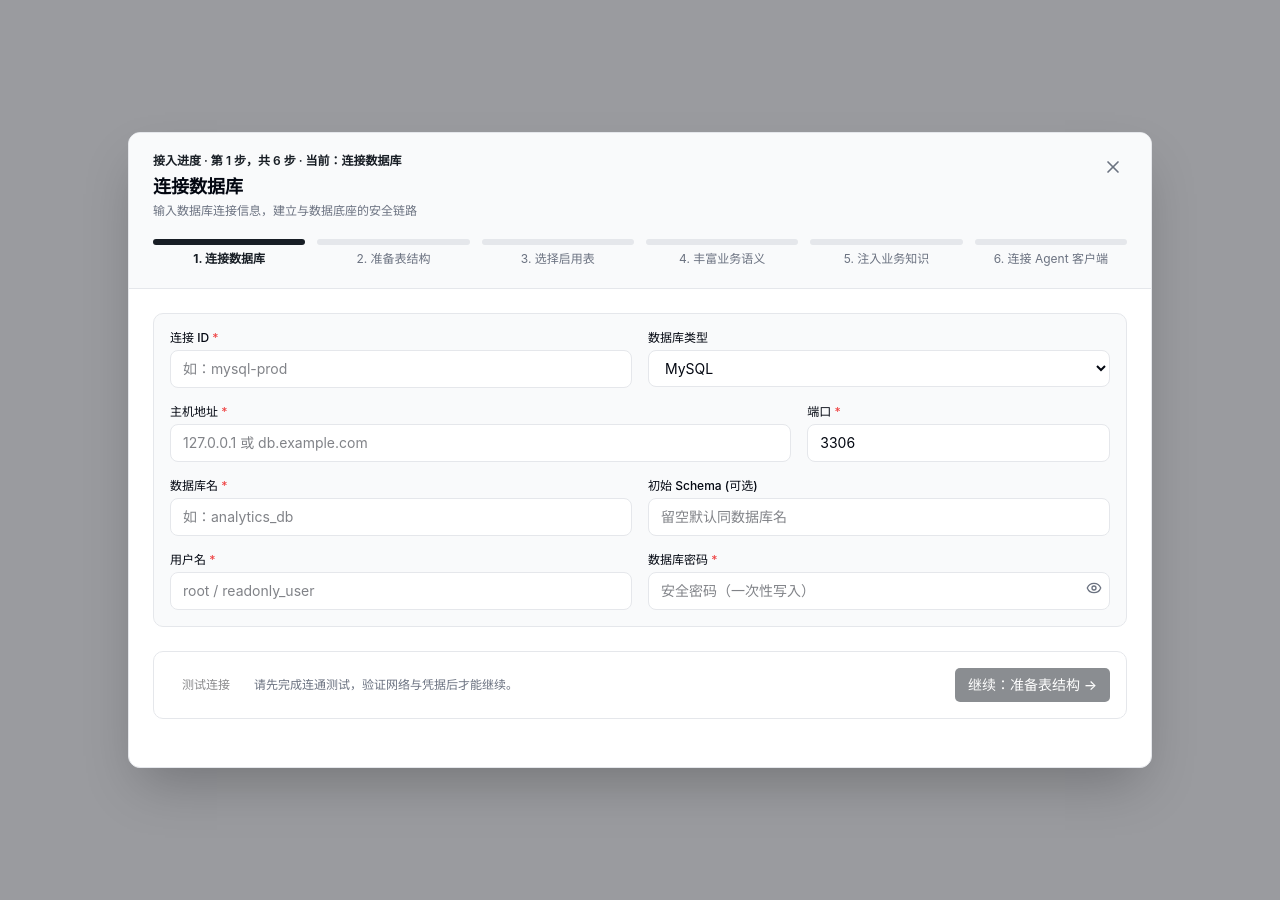
Test: SetupAssistantModal Component › blocks creation after a failed probe and exposes an actionable error
Type "test-conn" into the field labelled "连接 ID *". click: (401, 369)
box: 170,350 -> 632,388
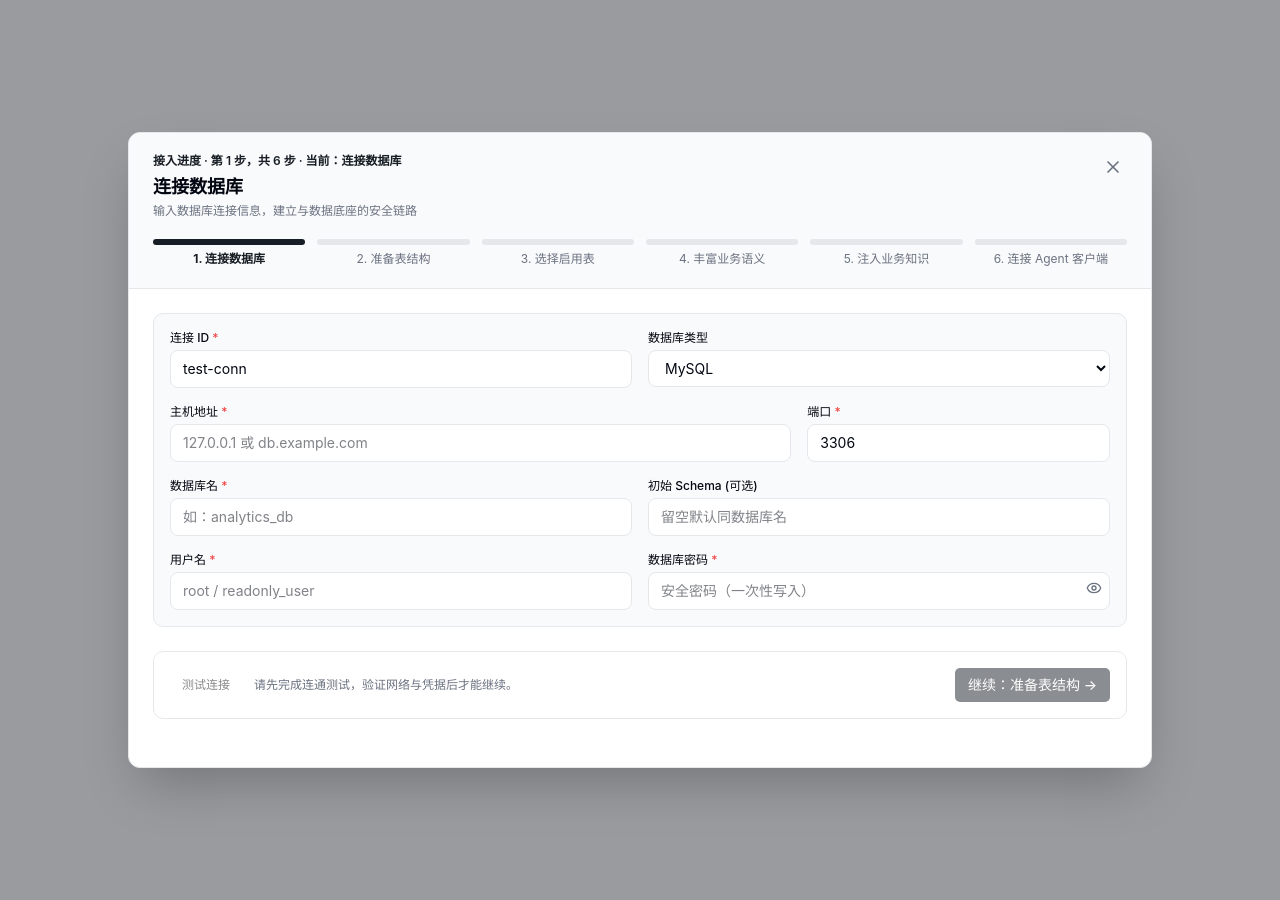
Type "invalid.local" into the field labelled "主机地址 *". click: (481, 443)
box: 170,424 -> 791,462
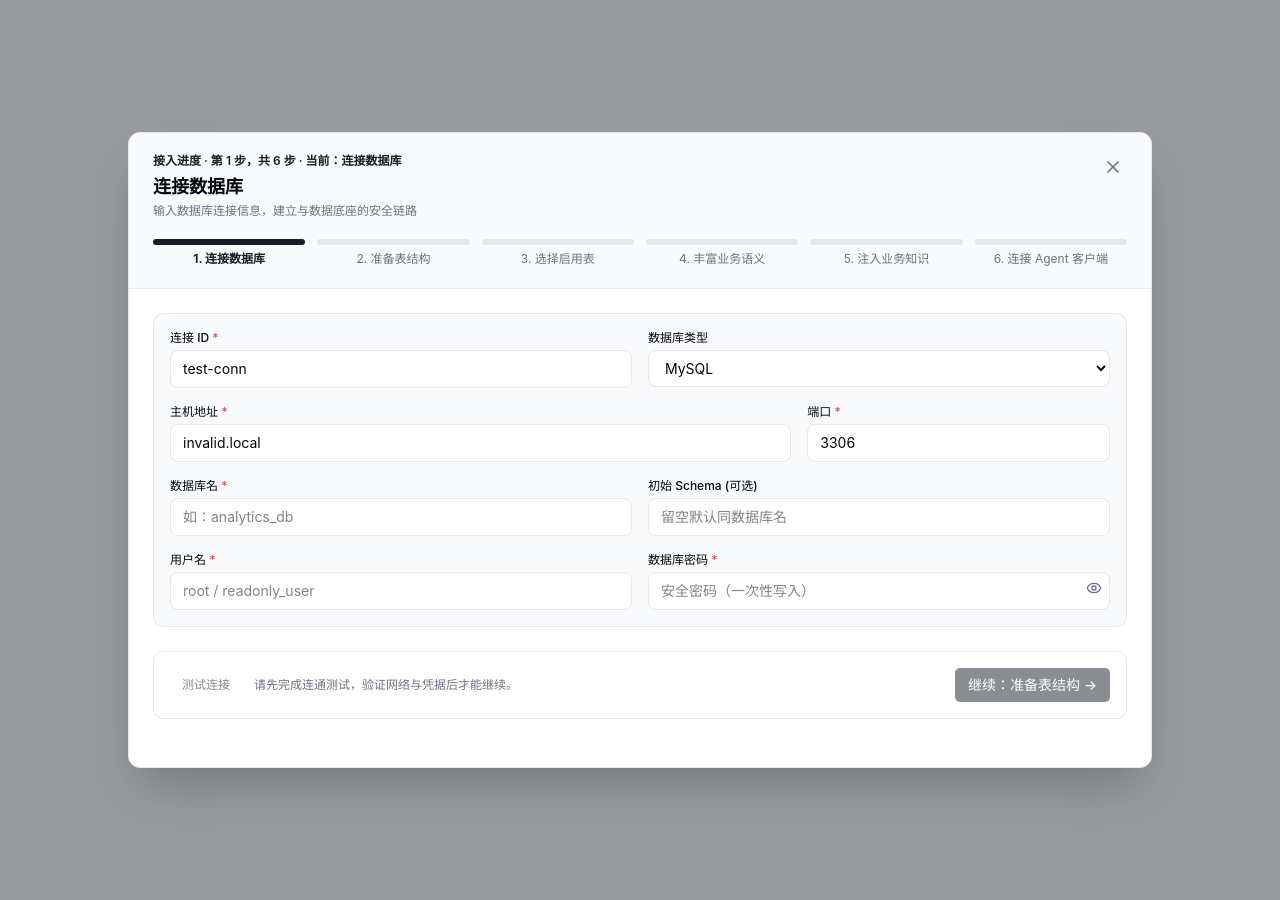
Type "test_db" into the field labelled "数据库名 *". click: (401, 517)
box: 170,498 -> 632,536
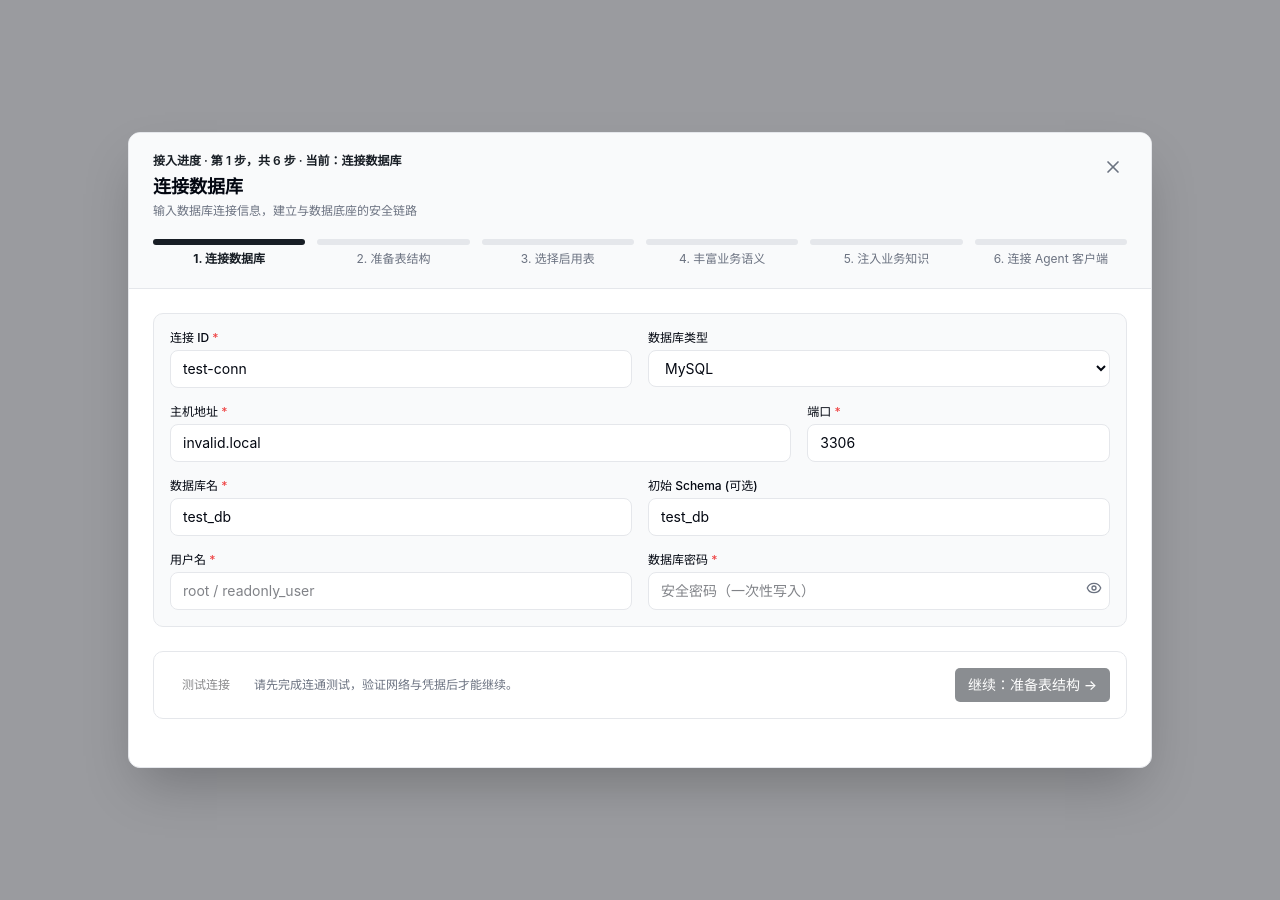
Type "readonly_user" into the field labelled "用户名 *". click: (401, 591)
box: 170,572 -> 632,610
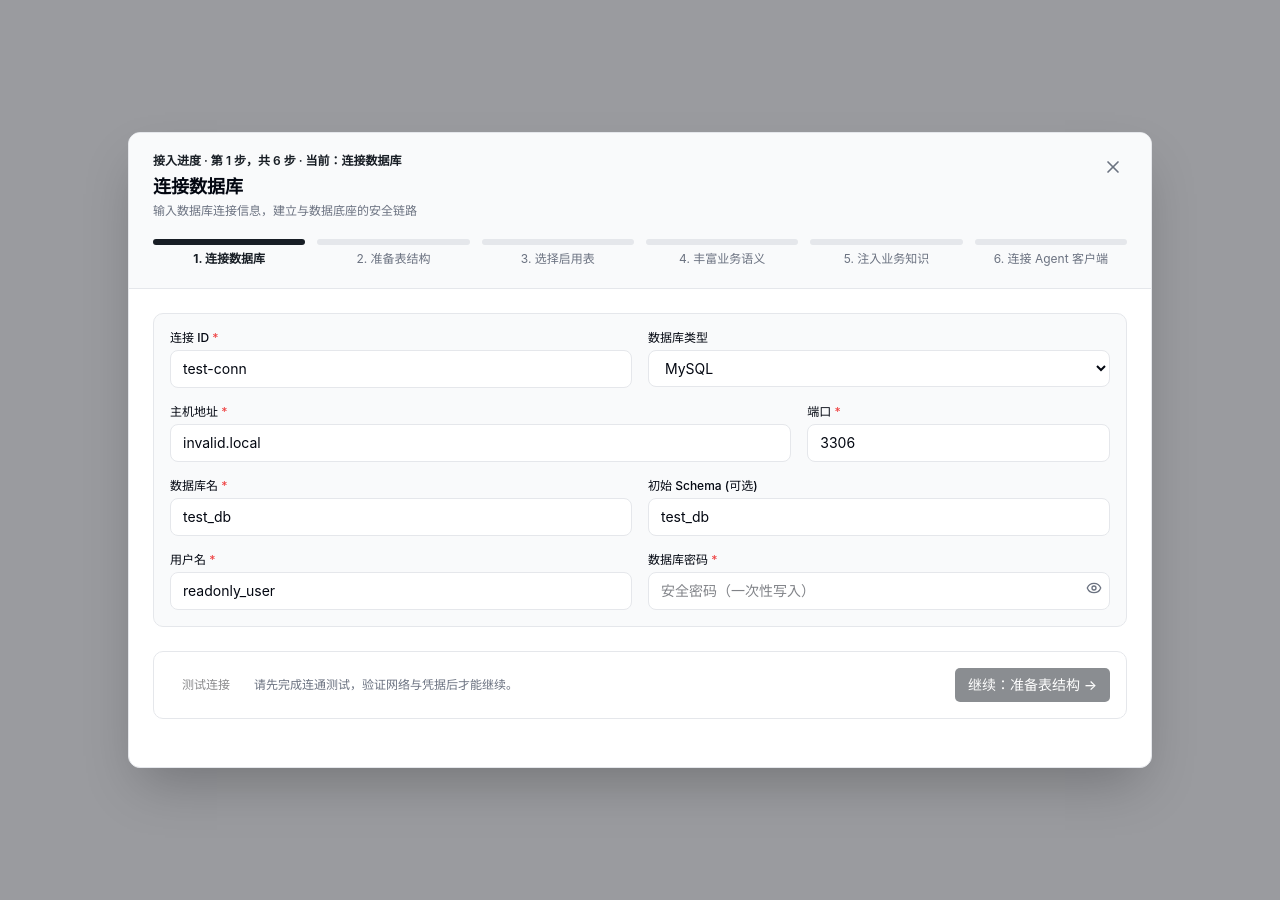
Type "secret123" into the password field with test id "setup-password". click: (879, 591)
box: 648,572 -> 1110,610
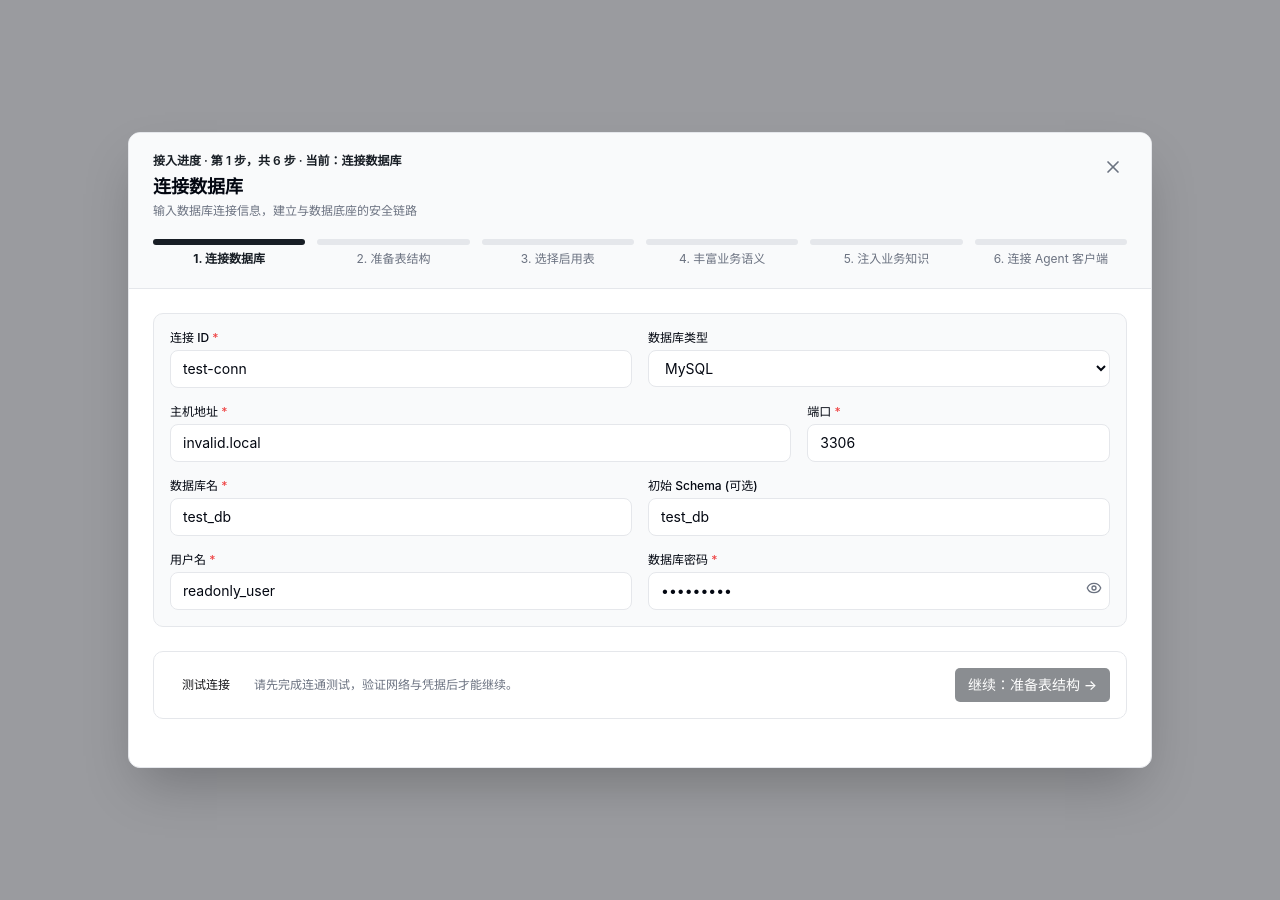
Click the button with test id "setup-probe-btn". click: (206, 685)
box: 170,671 -> 242,699
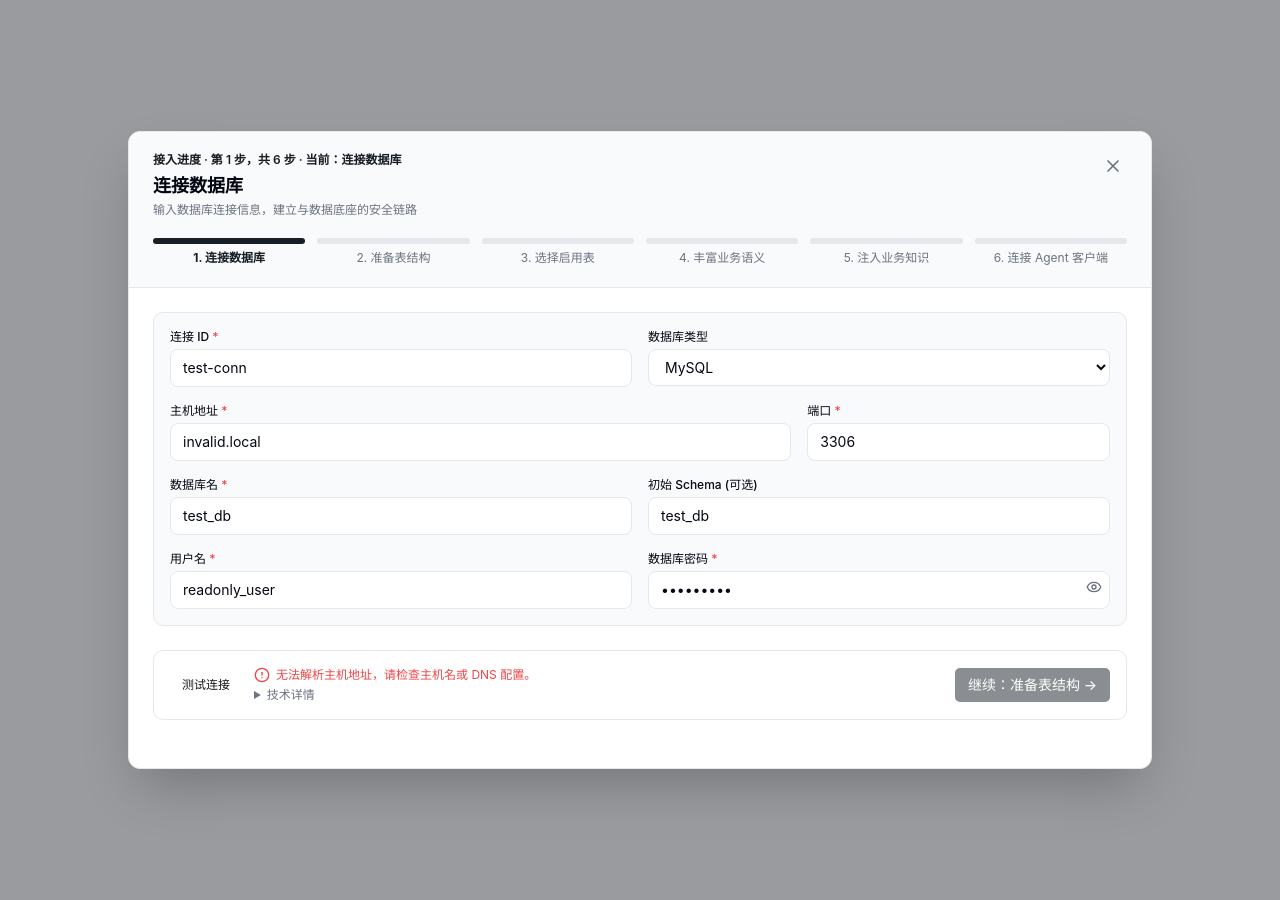
Expected: the button with test id "setup-step1-next" is disabled, 955,668 -> 1110,702
Now the text "无法解析主机地址，请检查主机名或 DNS 配置。" is shown, box 254,667 -> 536,683
Now the heading "技术详情" is shown, box 267,687 -> 315,702
